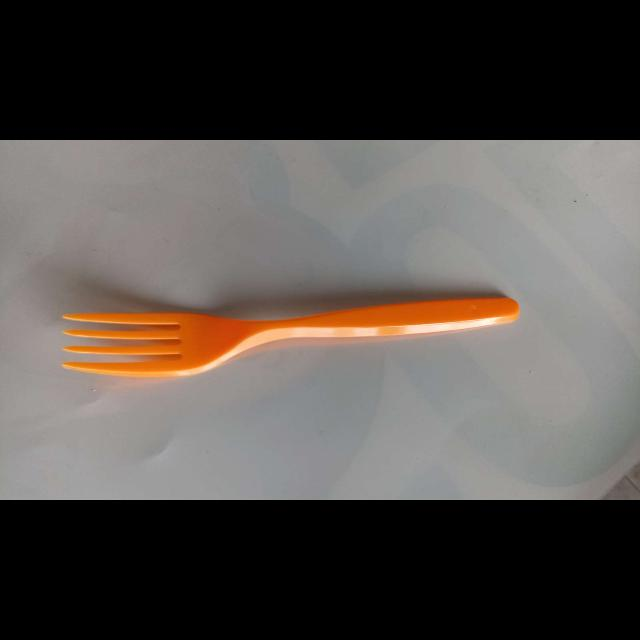plastic_cultery: (63, 291, 525, 379)
